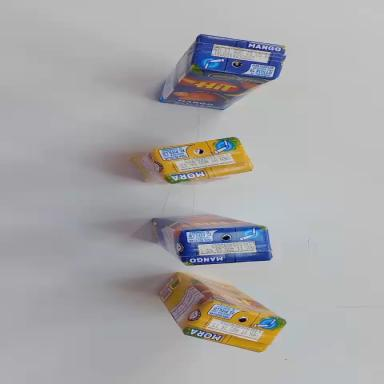HIT-MANGO: (159, 30, 287, 119), (152, 212, 272, 267)
HIT-MORA: (150, 267, 292, 360), (131, 131, 253, 193)
cara_F: (163, 65, 275, 117), (173, 272, 290, 320), (154, 212, 266, 233)
